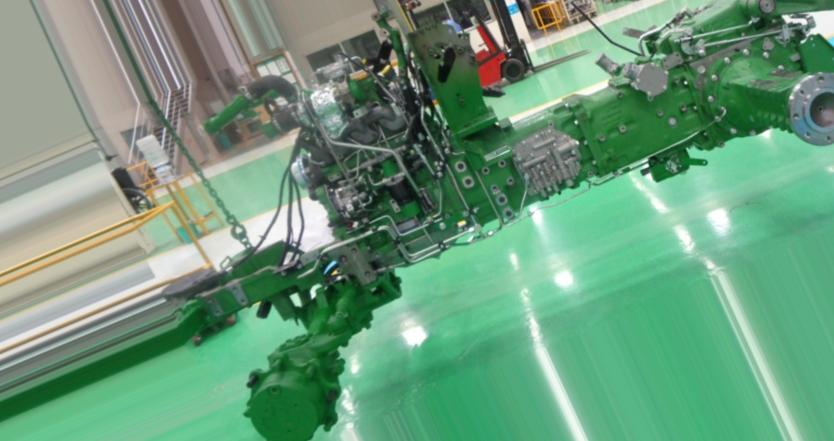engine: (188, 10, 832, 439)
